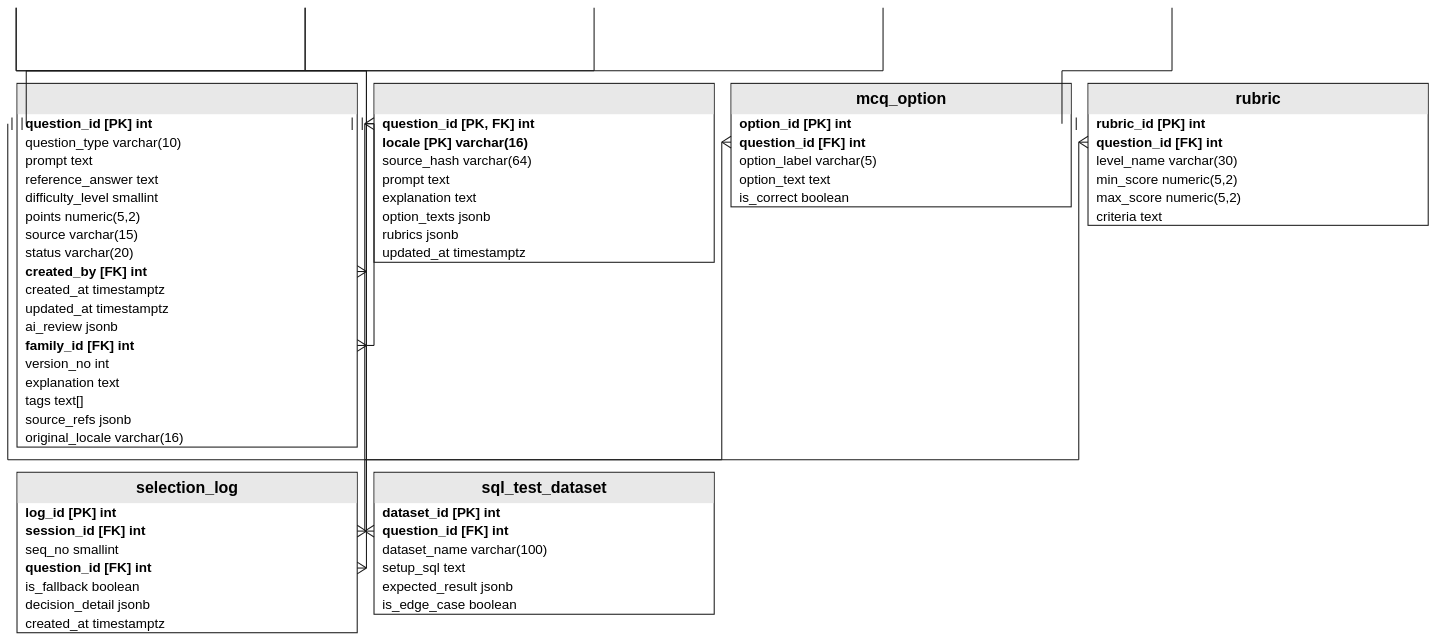
The diagram is 1436 pixels wide and 641 high, and some of its shapes have lost their labels. The centre of each missing label's shape, as x and y in pixels:
"question" belongs at point (186, 99).
"question_translation" belongs at point (543, 99).
